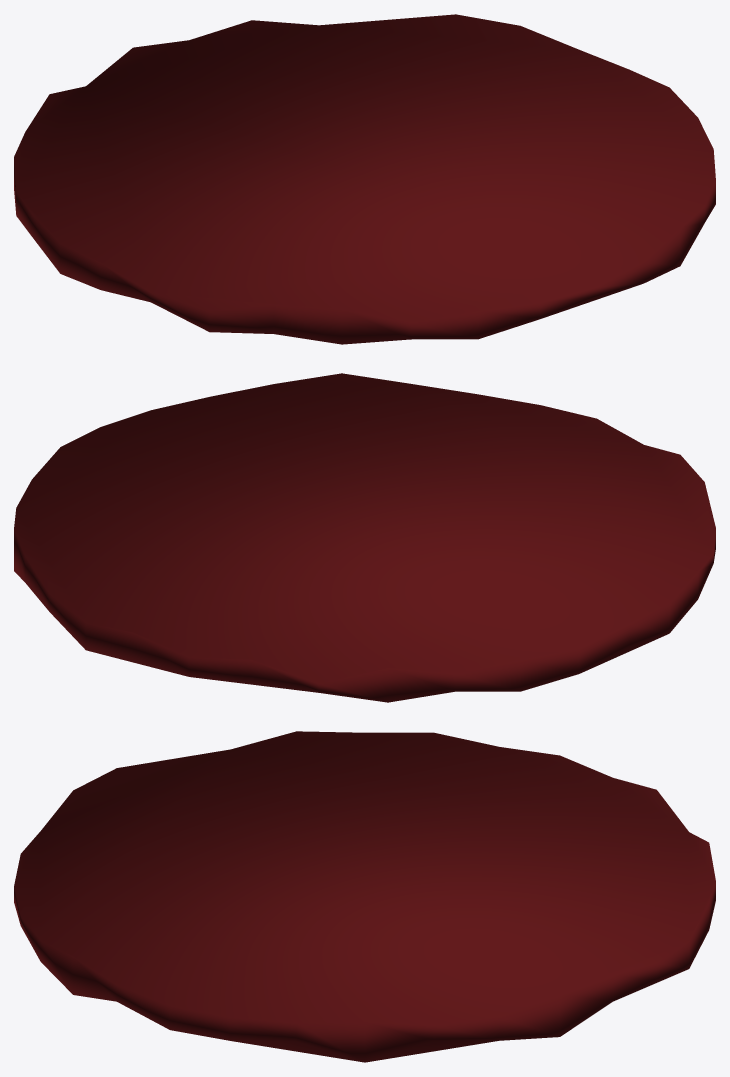
File: pepperoni.glb
3 renders of one model, top to bottom at view 1: azimuth 30°, elevation 25°; view 2: azimuth 150°, elevation 25°; view 3: azimuth 270°, elevation 25°, orthographic.
Parts seen in each view (by area): view 1: Circle; view 2: Circle; view 3: Circle.
Boxes of the visible parts, bbox=[...] form: Circle: bbox=[14, 14, 715, 344]; Circle: bbox=[14, 373, 715, 702]; Circle: bbox=[14, 731, 715, 1062].
Size of the model in its own units: 0.1436 by 0.00996 by 0.1436.
